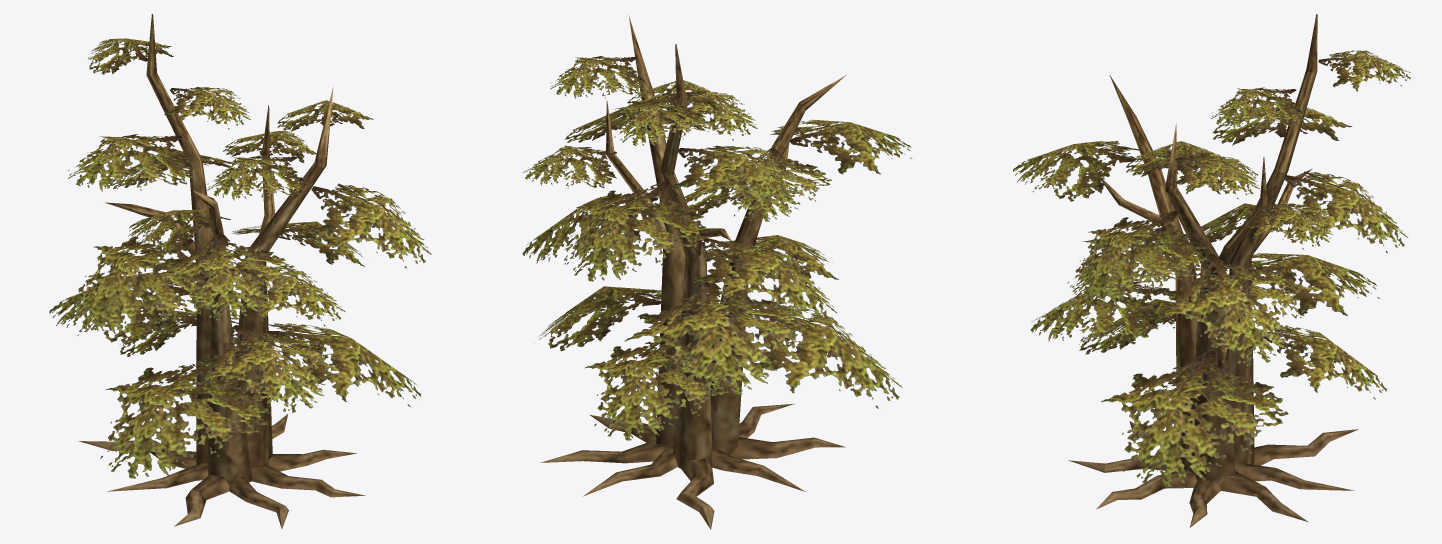
3 views of the same model, side by side, from view 1: azimuth 30°, elevation 25°; view 2: azimuth 150°, elevation 25°; view 3: azimuth 270°, elevation 25° (orthographic). The views are drawn at different scales.
Parts seen in each view (by area): view 1: t01; view 2: t01; view 3: t01.
Boxes of the visible parts, bbox=[...] form: t01: bbox=[49, 14, 431, 528]; t01: bbox=[522, 15, 911, 529]; t01: bbox=[1013, 14, 1410, 527].
Size of the model in its own units: 271 by 306 by 280.
